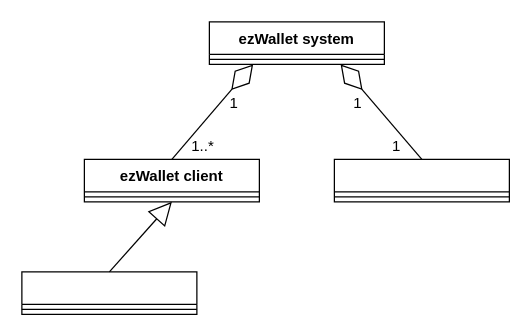
Image size: 531x336. Some labels were removed from this diagram. The shapes that lost their labels are listed below. From the top down, each one's box as (x1, y1, x2, y2) in pixels, then its label:
(333, 158, 509, 202): ezWallet server
(21, 271, 197, 314): ezWallet website
